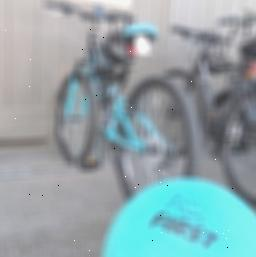algae: (103, 176, 256, 257)
